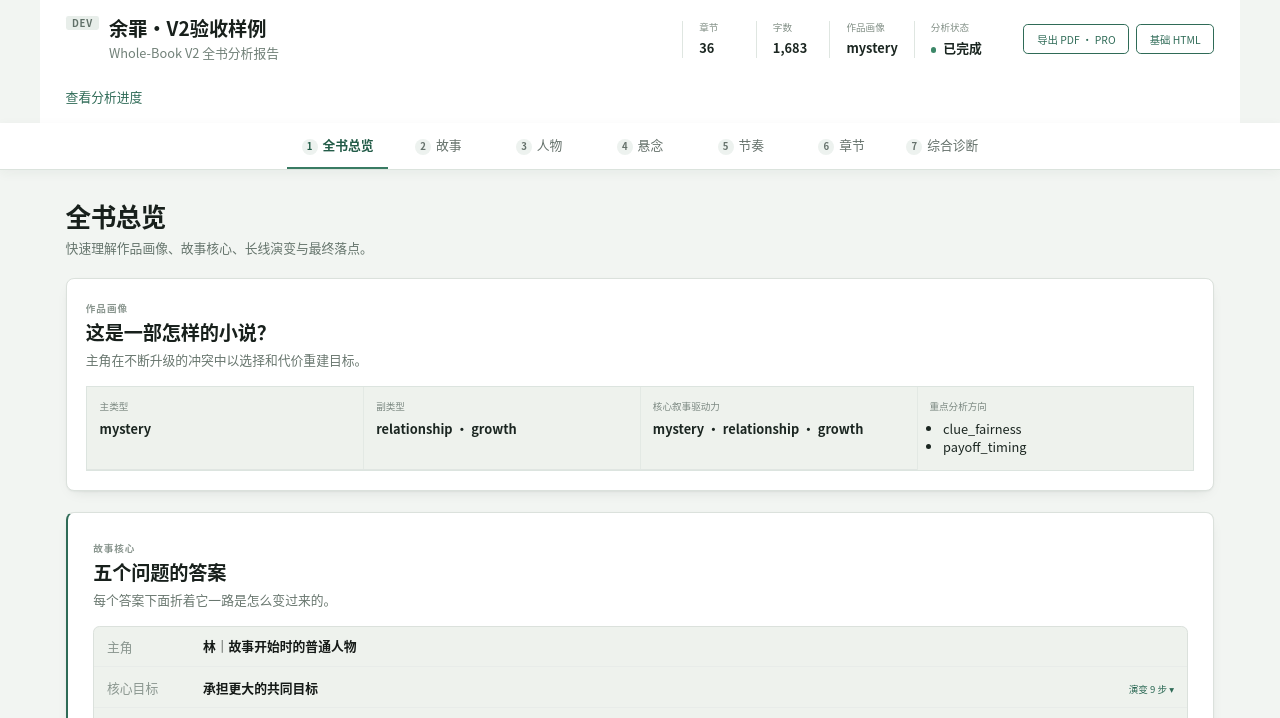
Whole-Book V2 static mock › character profile shows the record, and roles are not raw enum values
The image size is (1280, 718).
Click the button "3 人物".
click(539, 146)  # box [489, 123, 590, 169]
(page scrolled)
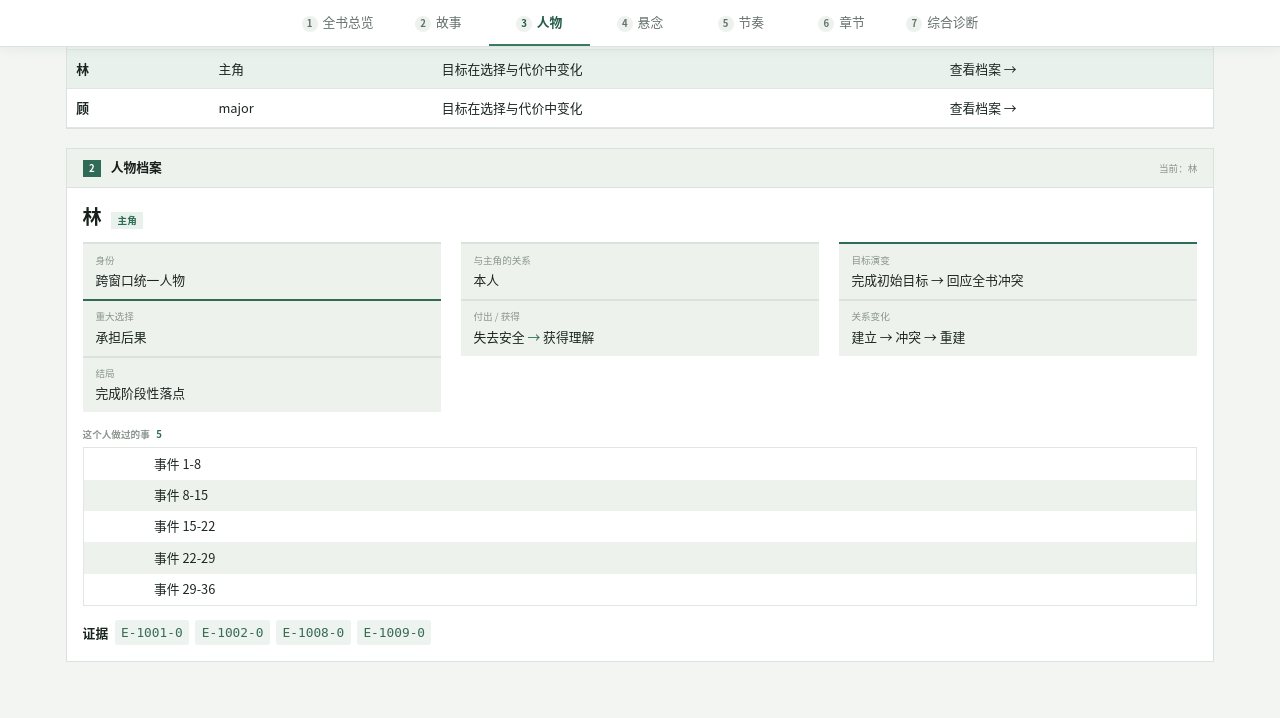
Now the element with class "wb2-profile" is shown, box [83, 204, 1197, 645]
